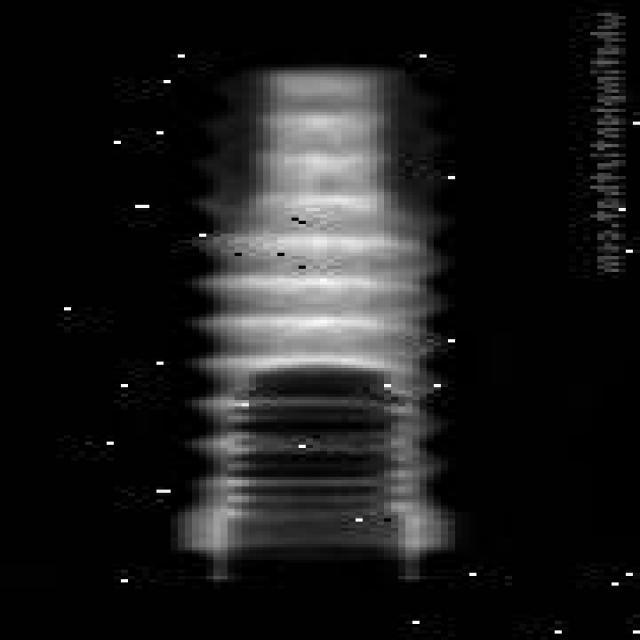Osstem Implant: (155, 57, 463, 577)
